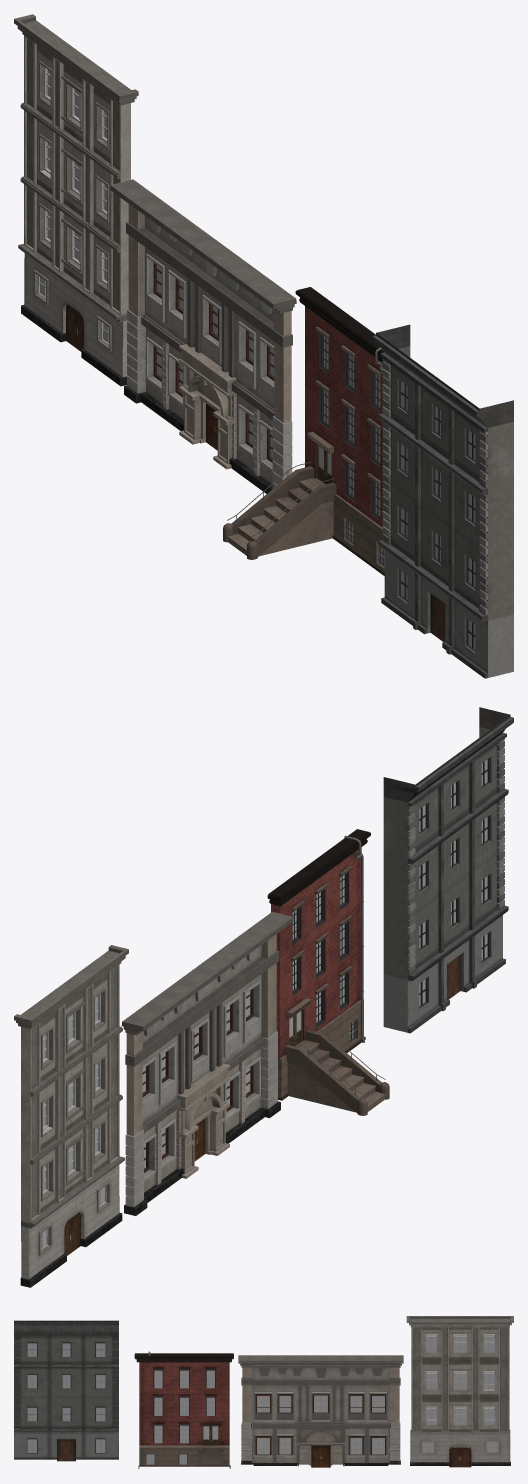
Rendered from All.fbx.
3 renders of one model, top to bottom at view 1: azimuth 30°, elevation 25°; view 2: azimuth 150°, elevation 25°; view 3: azimuth 270°, elevation 25°, orthographic. The views are drawn at different scales.
Parts seen in each view (by area): view 1: Building_4, Buidling_2, Building_1, Buidling_3; view 2: Buidling_2, Building_4, Building_1, Buidling_3; view 3: Buidling_2, Building_1, Building_4, Buidling_3.
Boxes of the visible parts, bbox=[...] form: Building_4: bbox=[372, 324, 513, 678]; Buidling_2: bbox=[110, 179, 296, 493]; Building_1: bbox=[14, 14, 138, 386]; Buidling_3: bbox=[223, 287, 384, 575]; Buidling_2: bbox=[121, 911, 293, 1215]; Building_4: bbox=[383, 707, 513, 1033]; Building_1: bbox=[14, 945, 128, 1287]; Buidling_3: bbox=[267, 829, 389, 1115]; Buidling_2: bbox=[238, 1355, 403, 1467]; Building_1: bbox=[406, 1316, 513, 1467]; Building_4: bbox=[14, 1320, 118, 1461]; Buidling_3: bbox=[134, 1351, 233, 1468].
Size of the model in its own units: 963 by 2768 by 8419.
